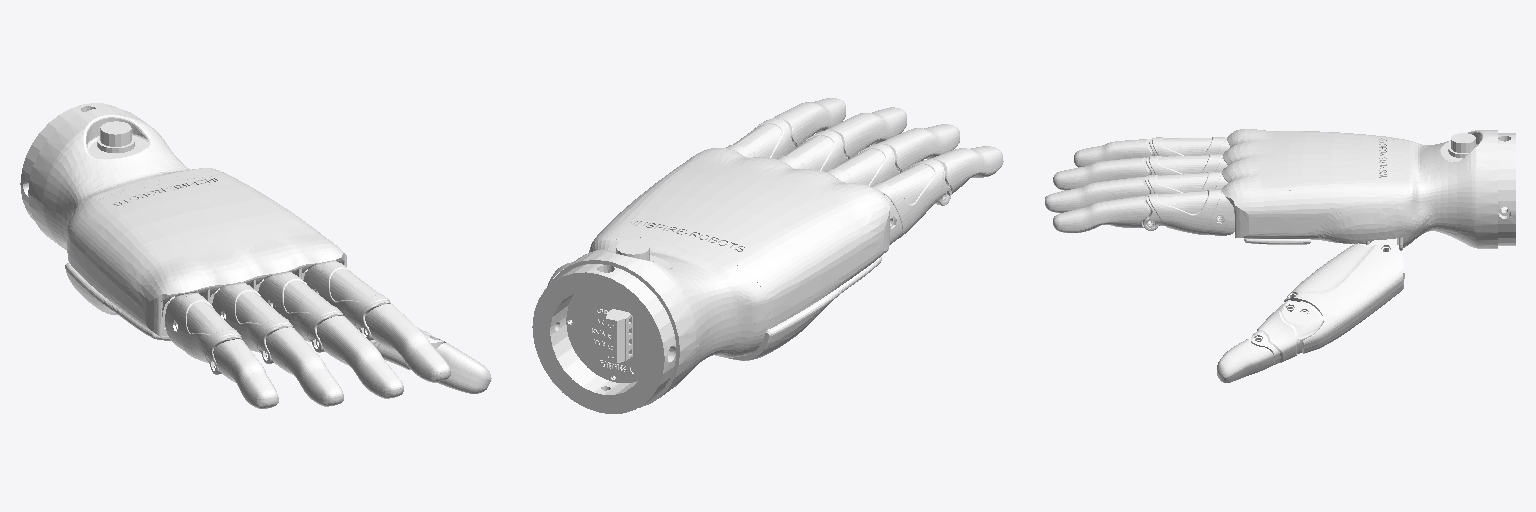
URDF robot description (inspire_hand_r):
<?xml version="1.0" encoding="utf-8"?>
<!-- This URDF was automatically created by SolidWorks to URDF Exporter! Originally created by [author] ([email redacted]) 
     Commit Version: 1.6.0-4-g7f85cfe  Build Version: 1.6.7995.38578
     For more information, please see http://wiki.ros.org/sw_urdf_exporter -->
<robot
  name="inspire_hand_r">
  
  <link name="world"/>
  <joint name="fixed" type="fixed">
  <origin
   xyz="0.5 0.5 0.5"
   rpy="-1.5707963 0 0" />
  <parent link="world"/>
  <child link="R_hand_base_link"/>
  </joint>
  
  <link
    name="R_hand_base_link">
    <inertial>
      <origin
        xyz="-0.076223 -0.01701 0.24616"
        rpy="0 0 0" />
      <mass
        value="0.14143" />
      <inertia
        ixx="7.6663E-05"
        ixy="1.6551E-06"
        ixz="1.7709E-06"
        iyy="8.3832E-05"
        iyz="-2.1711E-06"
        izz="0.00012281" />
    </inertial>
    <visual>
      <origin
        xyz="-0.07818289442 0.24868551657 -0.1190575893"
        rpy="3.1415926 0 3.1415926" />
      <geometry>
        <mesh
          filename="package://inspire_hand_r/meshes/R_hand_base_link.STL" />
      </geometry>
      <material
        name="">
        <color
          rgba="1 1 1 1" />
      </material>
    </visual>
    <collision>
      <origin
        xyz="-0.07818289442 0.24868551657 -0.1190575893"
        rpy="3.1415926 0 3.1415926"  />
      <geometry>
        <mesh
          filename="package://inspire_hand_r/meshes/R_hand_base_link.STL" />
      </geometry>
    </collision>
  </link>
  <link
    name="R_thumb_proximal_base">
    <inertial>
      <origin
        xyz="-0.0048772 -0.010163 0.00044069"
        rpy="0 -3.1415926 0" />
      <mass
        value="0.0018869" />
      <inertia
        ixx="5.2002E-08"
        ixy="4.8353E-09"
        ixz="-6.6441E-09"
        iyy="6.7433E-08"
        iyz="5.4472E-10"
        izz="8.5319E-08" />
    </inertial>
    <visual>
      <origin
        xyz="0 0 0"
        rpy="0 0 0" />
      <geometry>
        <mesh
          filename="package://inspire_hand_r/meshes/R_thumb_proximal_base.STL" />
      </geometry>
      <material
        name="">
        <color
          rgba="1 1 1 1" />
      </material>
    </visual>
    <collision>
      <origin
        xyz="0 0 0"
        rpy="0 0 0" />
      <geometry>
        <mesh
          filename="package://inspire_hand_r/meshes/R_thumb_proximal_base.STL" />
      </geometry>
    </collision>
  </link>
  <joint
    name="R_thumb_MCP_joint1"
    type="revolute">
    <origin
      xyz="0.020450106 0.016955517 -0.107693589"
      rpy="4.7124 0 3.605907533" />
    <parent
      link="R_hand_base_link" />
    <child
      link="R_thumb_proximal_base" />
    <axis
      xyz="0 -1 0" />
    <limit
      lower="0"
      upper="1.1"
      effort="50"
      velocity="1" />
  </joint>
  <link
    name="R_thumb_proximal">
    <inertial>
      <origin
        xyz="-3.8592E-05 0.02533 -0.0017007"
        rpy="0 0 0" />
      <mass
        value="0.0066075" />
      <inertia
        ixx="2.786E-06"
        ixy="1.673E-10"
        ixz="-1.3436E-09"
        iyy="8.9422E-07"
        iyz="-2.1394E-07"
        izz="2.4097E-06" />
    </inertial>
    <visual>
      <origin
        xyz="0 0 0"
        rpy="0 0 0" />
      <geometry>
        <mesh
          filename="package://inspire_hand_r/meshes/R_thumb_proximal.STL" />
      </geometry>
      <material
        name="">
        <color
          rgba="1 1 1 1" />
      </material>
    </visual>
    <collision>
      <origin
        xyz="0 0 0"
        rpy="0 0 0" />
      <geometry>
        <mesh
          filename="package://inspire_hand_r/meshes/R_thumb_proximal.STL" />
      </geometry>
    </collision>
  </link>
  <joint
    name="R_thumb_MCP_joint2"
    type="revolute">
    <origin
      xyz="-0.0115 -0.011843 0"
      rpy="5.55298075 1.5708 0" />
    <parent
      link="R_thumb_proximal_base" />
    <child
      link="R_thumb_proximal" />
    <axis
      xyz="1 0 0" />
    <limit
      lower="0"
      upper="0.5"
      effort="50"
      velocity="1" />
  </joint>
  <link
    name="R_thumb_intermediate">
    <inertial>
      <origin
        xyz="2.8437E-07 0.0072526 -0.0064293"
        rpy="0 0 0" />
      <mass
        value="0.0037847" />
      <inertia
        ixx="4.6531E-07"
        ixy="-3.454E-12"
        ixz="3.4344E-12"
        iyy="2.6858E-07"
        iyz="-6.414E-08"
        izz="4.2517E-07" />
    </inertial>
    <visual>
      <origin
        xyz="0 0 0"
        rpy="0 0 0" />
      <geometry>
        <mesh
          filename="package://inspire_hand_r/meshes/R_thumb_intermediate.STL" />
      </geometry>
      <material
        name="">
        <color
          rgba="1 1 1 1" />
      </material>
    </visual>
    <collision>
      <origin
        xyz="0 0 0"
        rpy="0 0 0" />
      <geometry>
        <mesh
          filename="package://inspire_hand_r/meshes/R_thumb_intermediate.STL" />
      </geometry>
    </collision>
  </link>
  <joint
    name="R_thumb_PIP_joint"
    type="revolute">
    <origin
      xyz="0 0.055863 0.0039241"
      rpy="-0.038299 0 0" />
    <parent
      link="R_thumb_proximal" />
    <child
      link="R_thumb_intermediate" />
    <axis
      xyz="1 0 0" />
    <limit
      lower="0"
      upper="1"
      effort="50"
      velocity="1" />
  </joint>
  <link
    name="R_thumb_distal">
    <inertial>
      <origin
        xyz="-3.3054E-06 0.010511 -0.00057863"
        rpy="0 0 0" />
      <mass
        value="0.0033441" />
      <inertia
        ixx="2.0026E-07"
        ixy="-1.4303E-10"
        ixz="-5.6945E-11"
        iyy="8.711E-08"
        iyz="-2.4416E-08"
        izz="1.8974E-07" />
    </inertial>
    <visual>
      <origin
        xyz="0 0 0"
        rpy="0 0 0" />
      <geometry>
        <mesh
          filename="package://inspire_hand_r/meshes/R_thumb_distal.STL" />
      </geometry>
      <material
        name="">
        <color
          rgba="1 1 1 1" />
      </material>
    </visual>
    <collision>
      <origin
        xyz="0 0 0"
        rpy="0 0 0" />
      <geometry>
        <mesh
          filename="package://inspire_hand_r/meshes/R_thumb_distal.STL" />
      </geometry>
    </collision>
  </link>
  <joint
    name="R_thumb_DIP_joint"
    type="revolute">
    <origin
      xyz="0 0.022558 -0.0020717"
      rpy="-0.011642 0 0" />
    <parent
      link="R_thumb_intermediate" />
    <child
      link="R_thumb_distal" />
    <axis
      xyz="1 0 0" />
    <limit
      lower="0"
      upper="1.2"
      effort="50"
      velocity="1" />
  </joint>
  <link
    name="R_index_proximal">
    <inertial>
      <origin
        xyz="0.0099008 0.011884 0.0016958"
        rpy="0 0 0" />
      <mass
        value="0.0042403" />
      <inertia
        ixx="6.9398E-07"
        ixy="-4.4846E-12"
        ixz="-3.0248E-12"
        iyy="2.3039E-07"
        iyz="-9.1779E-08"
        izz="6.434E-07" />
    </inertial>
    <visual>
      <origin
        xyz="0 0 0"
        rpy="0 0 0" />
      <geometry>
        <mesh
          filename="package://inspire_hand_r/meshes/R_index_proximal.STL" />
      </geometry>
      <material
        name="">
        <color
          rgba="1 1 1 1" />
      </material>
    </visual>
    <collision>
      <origin
        xyz="0 0 0"
        rpy="0 0 0" />
      <geometry>
        <mesh
          filename="package://inspire_hand_r/meshes/R_index_proximal.STL" />
      </geometry>
    </collision>
  </link>
  <joint
    name="R_index_MCP_joint"
    type="revolute">
    <origin
      xyz="0.016376106 -0.000284483 -0.173082589"
      rpy="4.4684 -0.034907 0" />
    <parent
      link="R_hand_base_link" />
    <child
      link="R_index_proximal" />
    <axis
      xyz="1 0 0" />
    <limit
      lower="0"
      upper="1.7"
      effort="50"
      velocity="1" />
  </joint>
  <link
    name="R_index_distal">
    <inertial>
      <origin
        xyz="0.0083258 0.019591 0.0019565"
        rpy="0 0 0" />
      <mass
        value="0.0045683" />
      <inertia
        ixx="7.8179E-07"
        ixy="9.0022E-13"
        ixz="5.6729E-13"
        iyy="1.5635E-07"
        iyz="-2.1007E-07"
        izz="7.0084E-07" />
    </inertial>
    <visual>
      <origin
        xyz="0 0 0"
        rpy="0 0 0" />
      <geometry>
        <mesh
          filename="package://inspire_hand_r/meshes/R_index_distal.STL" />
      </geometry>
      <material
        name="">
        <color
          rgba="1 1 1 1" />
      </material>
    </visual>
    <collision>
      <origin
        xyz="0 0 0"
        rpy="0 0 0" />
      <geometry>
        <mesh
          filename="package://inspire_hand_r/meshes/R_index_distal.STL" />
      </geometry>
    </collision>
  </link>
  <joint
    name="R_index_DIP_joint"
    type="revolute">
    <origin
      xyz="0.001575 0.030445 0.010275"
      rpy="0.044288 0 0" />
    <parent
      link="R_index_proximal" />
    <child
      link="R_index_distal" />
    <axis
      xyz="1 0 0" />
    <limit
      lower="0"
      upper="1.6"
      effort="50"
      velocity="1" />
  </joint>
  <link
    name="R_middle_proximal">
    <inertial>
      <origin
        xyz="0.008065 0.011884 0.0016958"
        rpy="0 0 0" />
      <mass
        value="0.0042403" />
      <inertia
        ixx="6.9397E-07"
        ixy="-6.0276E-12"
        ixz="-3.3971E-12"
        iyy="2.3039E-07"
        iyz="-9.1777E-08"
        izz="6.4339E-07" />
    </inertial>
    <visual>
      <origin
        xyz="0 0 0"
        rpy="0 0 0" />
      <geometry>
        <mesh
          filename="package://inspire_hand_r/meshes/R_middle_proximal.STL" />
      </geometry>
      <material
        name="">
        <color
          rgba="1 1 1 1" />
      </material>
    </visual>
    <collision>
      <origin
        xyz="0 0 0"
        rpy="0 0 0" />
      <geometry>
        <mesh
          filename="package://inspire_hand_r/meshes/R_middle_proximal.STL" />
      </geometry>
    </collision>
  </link>
  <joint
    name="R_middle_MCP_joint"
    type="revolute">
    <origin
      xyz="-0.001114894 -0.000284483 -0.173099589"
      rpy="4.4624 0 0" />
    <parent
      link="R_hand_base_link" />
    <child
      link="R_middle_proximal" />
    <axis
      xyz="1 0 0" />
    <limit
      lower="0"
      upper="1.7"
      effort="50"
      velocity="1" />
  </joint>
  <link
    name="R_middle_distal">
    <inertial>
      <origin
        xyz="0.0063978 0.020807 0.0018039"
        rpy="0 0 0" />
      <mass
        value="0.0050396" />
      <inertia
        ixx="9.8384E-07"
        ixy="5.3828E-12"
        ixz="3.4908E-12"
        iyy="1.7328E-07"
        iyz="-2.5594E-07"
        izz="8.914E-07" />
    </inertial>
    <visual>
      <origin
        xyz="0 0 0"
        rpy="0 0 0" />
      <geometry>
        <mesh
          filename="package://inspire_hand_r/meshes/R_middle_distal.STL" />
      </geometry>
      <material
        name="">
        <color
          rgba="1 1 1 1" />
      </material>
    </visual>
    <collision>
      <origin
        xyz="0 0 0"
        rpy="0 0 0" />
      <geometry>
        <mesh
          filename="package://inspire_hand_r/meshes/R_middle_distal.STL" />
      </geometry>
    </collision>
  </link>
  <joint
    name="R_middle_DIP_joint"
    type="revolute">
    <origin
      xyz="0.0016673 0.030445 0.010275"
      rpy="0.071413 0 0" />
    <parent
      link="R_middle_proximal" />
    <child
      link="R_middle_distal" />
    <axis
      xyz="1 0 0" />
    <limit
      lower="0"
      upper="1.6"
      effort="50"
      velocity="1" />
  </joint>
  <link
    name="R_ring_proximal">
    <inertial>
      <origin
        xyz="0.0080207 0.011884 0.0016959"
        rpy="0 0 0" />
      <mass
        value="0.0042403" />
      <inertia
        ixx="6.9397E-07"
        ixy="-6.088E-12"
        ixz="-3.1846E-12"
        iyy="2.3039E-07"
        iyz="-9.1776E-08"
        izz="6.4339E-07" />
    </inertial>
    <visual>
      <origin
        xyz="0 0 0"
        rpy="0 0 0" />
      <geometry>
        <mesh
          filename="package://inspire_hand_r/meshes/R_ring_proximal.STL" />
      </geometry>
      <material
        name="">
        <color
          rgba="1 1 1 1" />
      </material>
    </visual>
    <collision>
      <origin
        xyz="0 0 0"
        rpy="0 0 0" />
      <geometry>
        <mesh
          filename="package://inspire_hand_r/meshes/R_ring_proximal.STL" />
      </geometry>
    </collision>
  </link>
  <joint
    name="R_ring_MCP_joint"
    type="revolute">
    <origin
      xyz="-0.020288894 -0.000284483 -0.172176589"
      rpy="4.4624 0.05236 0" />
    <parent
      link="R_hand_base_link" />
    <child
      link="R_ring_proximal" />
    <axis
      xyz="1 0 0" />
    <limit
      lower="0"
      upper="1.7"
      effort="50"
      velocity="1" />
  </joint>
  <link
    name="R_ring_distal">
    <inertial>
      <origin
        xyz="0.0080209 0.019591 0.0019565"
        rpy="0 0 0" />
      <mass
        value="0.0045683" />
      <inertia
        ixx="7.8177E-07"
        ixy="4.448E-13"
        ixz="7.2441E-13"
        iyy="1.5635E-07"
        iyz="-2.1007E-07"
        izz="7.0082E-07" />
    </inertial>
    <visual>
      <origin
        xyz="0 0 0"
        rpy="0 0 0" />
      <geometry>
        <mesh
          filename="package://inspire_hand_r/meshes/R_ring_distal.STL" />
      </geometry>
      <material
        name="">
        <color
          rgba="1 1 1 1" />
      </material>
    </visual>
    <collision>
      <origin
        xyz="0 0 0"
        rpy="0 0 0" />
      <geometry>
        <mesh
          filename="package://inspire_hand_r/meshes/R_ring_distal.STL" />
      </geometry>
    </collision>
  </link>
  <joint
    name="R_ring_DIP_joint"
    type="revolute">
    <origin
      xyz="0 0.030445 0.010275"
      rpy="0.039748 0 0" />
    <parent
      link="R_ring_proximal" />
    <child
      link="R_ring_distal" />
    <axis
      xyz="1 0 0" />
    <limit
      lower="0"
      upper="1.6"
      effort="50"
      velocity="1" />
  </joint>
  <link
    name="R_pinky_proximal">
    <inertial>
      <origin
        xyz="0.0078887 0.011884 0.0016959"
        rpy="0 0 0" />
      <mass
        value="0.0042403" />
      <inertia
        ixx="6.9397E-07"
        ixy="-6.2993E-12"
        ixz="-3.3535E-12"
        iyy="2.3039E-07"
        iyz="-9.1776E-08"
        izz="6.4339E-07" />
    </inertial>
    <visual>
      <origin
        xyz="0 0 0"
        rpy="0 0 0" />
      <geometry>
        <mesh
          filename="package://inspire_hand_r/meshes/R_pinky_proximal.STL" />
      </geometry>
      <material
        name="">
        <color
          rgba="1 1 1 1" />
      </material>
    </visual>
    <collision>
      <origin
        xyz="0 0 0"
        rpy="0 0 0" />
      <geometry>
        <mesh
          filename="package://inspire_hand_r/meshes/R_pinky_proximal.STL" />
      </geometry>
    </collision>
  </link>
  <joint
    name="R_pinky_MCP_joint"
    type="revolute">
    <origin
      xyz="-0.039300894 -0.000028483 -0.170262589"
      rpy="4.4624 0.10472 0" />
    <parent
      link="R_hand_base_link" />
    <child
      link="R_pinky_proximal" />
    <axis
      xyz="1 0 0" />
    <limit
      lower="0"
      upper="1.7"
      effort="50"
      velocity="1" />
  </joint>
  <link
    name="R_pinky_distal">
    <inertial>
      <origin
        xyz="0.0078857 0.016239 0.0022243"
        rpy="0 0 0" />
      <mass
        value="0.0035996" />
      <inertia
        ixx="4.4867E-07"
        ixy="6.675E-11"
        ixz="-1.9009E-11"
        iyy="1.2248E-07"
        iyz="-1.3511E-07"
        izz="3.8689E-07" />
    </inertial>
    <visual>
      <origin
        xyz="0 0 0"
        rpy="0 0 0" />
      <geometry>
        <mesh
          filename="package://inspire_hand_r/meshes/R_pinky_distal.STL" />
      </geometry>
      <material
        name="">
        <color
          rgba="1 1 1 1" />
      </material>
    </visual>
    <collision>
      <origin
        xyz="0 0 0"
        rpy="0 0 0" />
      <geometry>
        <mesh
          filename="package://inspire_hand_r/meshes/R_pinky_distal.STL" />
      </geometry>
    </collision>
  </link>
  <joint
    name="R_pinky_DIP_joint"
    type="revolute">
    <origin
      xyz="0 0.030445 0.010275"
      rpy="-0.037691 0 0" />
    <parent
      link="R_pinky_proximal" />
    <child
      link="R_pinky_distal" />
    <axis
      xyz="1 0 0" />
    <limit
      lower="0"
      upper="1.6"
      effort="50"
      velocity="1" />
  </joint>
</robot>

--- Render facts (derived) ---
Views: 3 orthographic renders of the robot side by side, from view 1: azimuth 30°, elevation 25°; view 2: azimuth 150°, elevation 25°; view 3: azimuth 270°, elevation 25°.
Model inspire_hand_r with 14 links and 13 joints (12 revolute, 1 fixed), rooted at world, posed every joint at zero.
Links seen in each view (by area): view 1: R_hand_base_link, R_middle_distal, R_pinky_proximal, R_index_distal, R_ring_proximal, R_middle_proximal, R_ring_distal, R_index_proximal, R_pinky_distal, R_thumb_distal; view 2: R_hand_base_link, R_pinky_proximal, R_middle_distal, R_ring_distal, R_pinky_distal, R_index_distal, R_ring_proximal, R_middle_proximal, R_index_proximal; view 3: R_hand_base_link, R_thumb_proximal, R_index_proximal, R_thumb_intermediate, R_index_distal, R_middle_distal, R_ring_distal, R_thumb_distal, R_middle_proximal, R_ring_proximal, R_pinky_proximal, R_pinky_distal.
Link boxes in pixels (<box>): R_hand_base_link: <box>20,103,346,340</box>; R_middle_distal: <box>317,316,403,398</box>; R_pinky_proximal: <box>165,293,241,374</box>; R_index_distal: <box>365,304,450,382</box>; R_ring_proximal: <box>212,282,292,363</box>; R_middle_proximal: <box>258,272,342,352</box>; R_ring_distal: <box>266,327,343,406</box>; R_index_proximal: <box>303,260,390,340</box>; R_pinky_distal: <box>213,339,278,408</box>; R_thumb_distal: <box>436,341,491,393</box>; R_hand_base_link: <box>532,148,889,413</box>; R_pinky_proximal: <box>871,159,951,244</box>; R_middle_distal: <box>825,107,906,158</box>; R_ring_distal: <box>878,124,959,172</box>; R_pinky_distal: <box>929,146,1003,193</box>; R_index_distal: <box>772,98,845,146</box>; R_ring_proximal: <box>825,144,899,185</box>; R_middle_proximal: <box>777,130,847,171</box>; R_index_proximal: <box>726,119,795,158</box>; R_hand_base_link: <box>1217,129,1515,250</box>; R_thumb_proximal: <box>1284,243,1404,353</box>; R_index_proximal: <box>1143,189,1234,235</box>; R_thumb_intermediate: <box>1251,300,1323,364</box>; R_index_distal: <box>1053,196,1153,232</box>; R_middle_distal: <box>1045,177,1149,212</box>; R_ring_distal: <box>1053,157,1150,190</box>; R_thumb_distal: <box>1217,337,1273,382</box>; R_middle_proximal: <box>1145,172,1227,193</box>; R_ring_proximal: <box>1146,154,1227,174</box>; R_pinky_proximal: <box>1149,137,1229,156</box>; R_pinky_distal: <box>1074,139,1153,167</box>.
Bounding box of the posed robot: 0.138 × 0.2178 × 0.0841 m (x, y, z).
Meshes: 13 distinct files referenced, 13 mesh visuals loaded (13 binary STL).